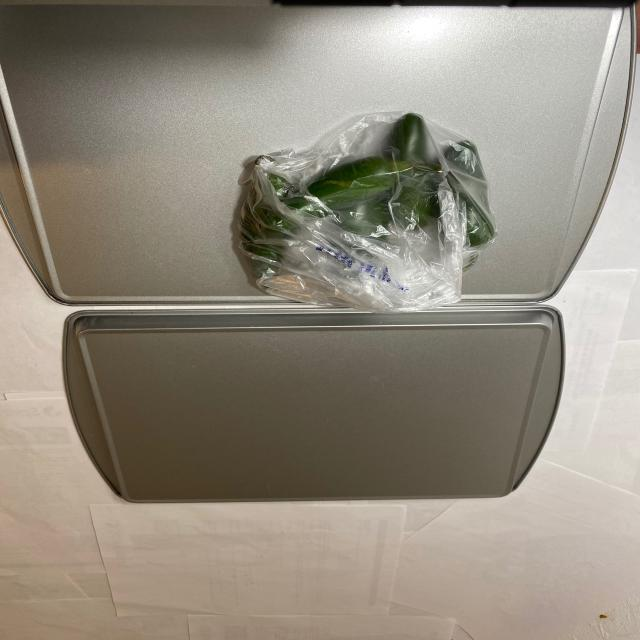chilli: (233, 110, 493, 301)
